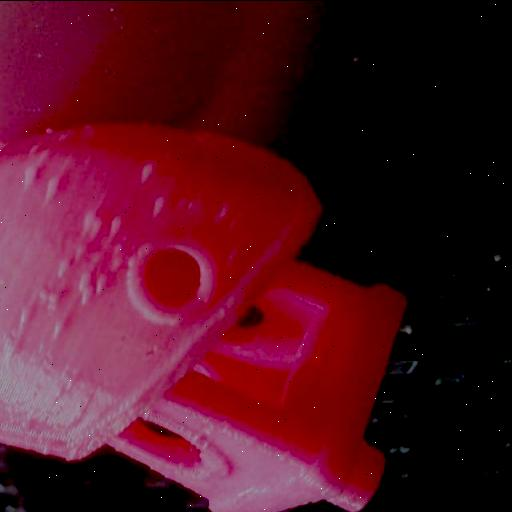blobs: (105, 208, 135, 238), (75, 208, 105, 237), (36, 284, 66, 306), (72, 274, 96, 300), (48, 314, 74, 338), (43, 176, 66, 202), (149, 192, 171, 214), (139, 156, 161, 178), (92, 272, 114, 294), (12, 304, 36, 324), (18, 162, 42, 181), (50, 254, 72, 274), (216, 200, 234, 222)
